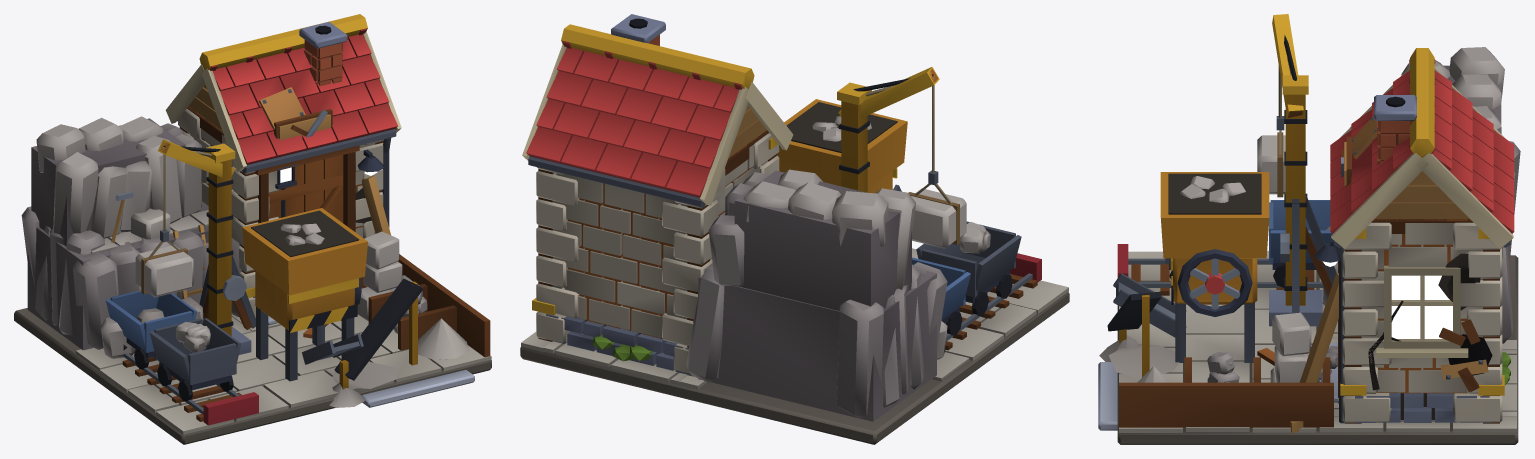
Rendered from b_steinbruch.glb.
3 views of the same model, side by side, from view 1: azimuth 30°, elevation 25°; view 2: azimuth 150°, elevation 25°; view 3: azimuth 270°, elevation 25° (orthographic). The views are drawn at different scales.
Parts seen in each view (by area): view 1: body, lv7_gold, lv4_ausbau, lv7_kran, lv4_huette, sway_block, dmg2_bruch, lvmax3_huette, lvmax6_kran; view 2: body, lv4_huette, lv7_gold, lv7_kran, sway_block, lvmax3_huette, lv4_ausbau; view 3: body, lv4_huette, lv7_kran, lv7_gold, lv4_ausbau, dmg2_bruch, spin_brecher, win_glow, lvmax3_huette, sway_block, dmg1_spuren, lvmax6_kran.
Boxes of the visible parts, x1,y1,x2,y2 form: body: (14, 22, 491, 444); lv7_gold: (199, 14, 469, 389); lv4_ausbau: (100, 164, 427, 369); lv7_kran: (158, 139, 255, 335); lv4_huette: (178, 109, 383, 317); sway_block: (135, 147, 193, 297); dmg2_bruch: (303, 175, 402, 338); lvmax3_huette: (179, 106, 383, 273); lvmax6_kran: (160, 141, 252, 329); body: (520, 14, 1069, 444); lv4_huette: (536, 133, 779, 373); lv7_gold: (532, 24, 897, 315); lv7_kran: (837, 67, 939, 192); sway_block: (908, 75, 966, 248); lvmax3_huette: (538, 130, 777, 376); lv4_ausbau: (912, 257, 970, 359); body: (1098, 47, 1520, 444); lv4_huette: (1342, 222, 1502, 422); lv7_kran: (1272, 14, 1336, 313); lv7_gold: (1107, 48, 1504, 395); lv4_ausbau: (1207, 200, 1337, 382); dmg2_bruch: (1257, 273, 1492, 432); spin_brecher: (1177, 249, 1252, 316); win_glow: (1391, 275, 1452, 338); lvmax3_huette: (1345, 219, 1499, 423); sway_block: (1257, 65, 1285, 197); dmg1_spuren: (1368, 253, 1480, 390); lvmax6_kran: (1287, 58, 1331, 295).
Bounding box in the file's own units: 5.52 × 4.54 × 5.5.
